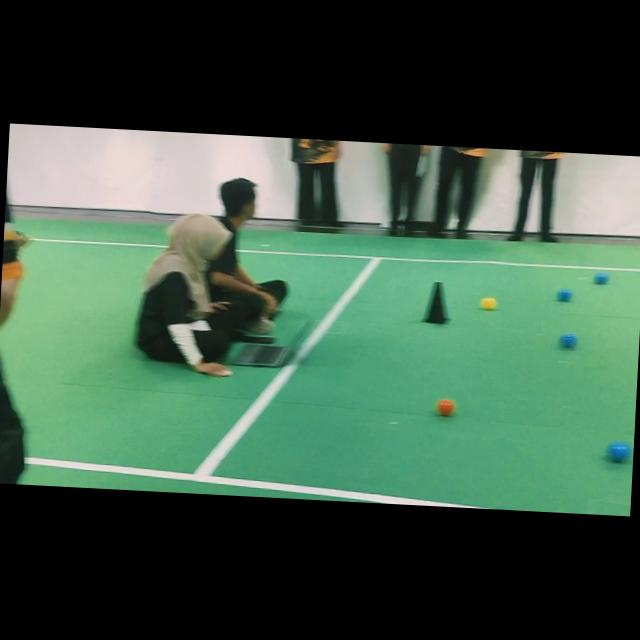ball: (607, 442, 631, 462), (436, 399, 456, 416), (560, 334, 577, 348), (481, 297, 497, 310), (556, 289, 573, 301), (594, 273, 609, 284)
